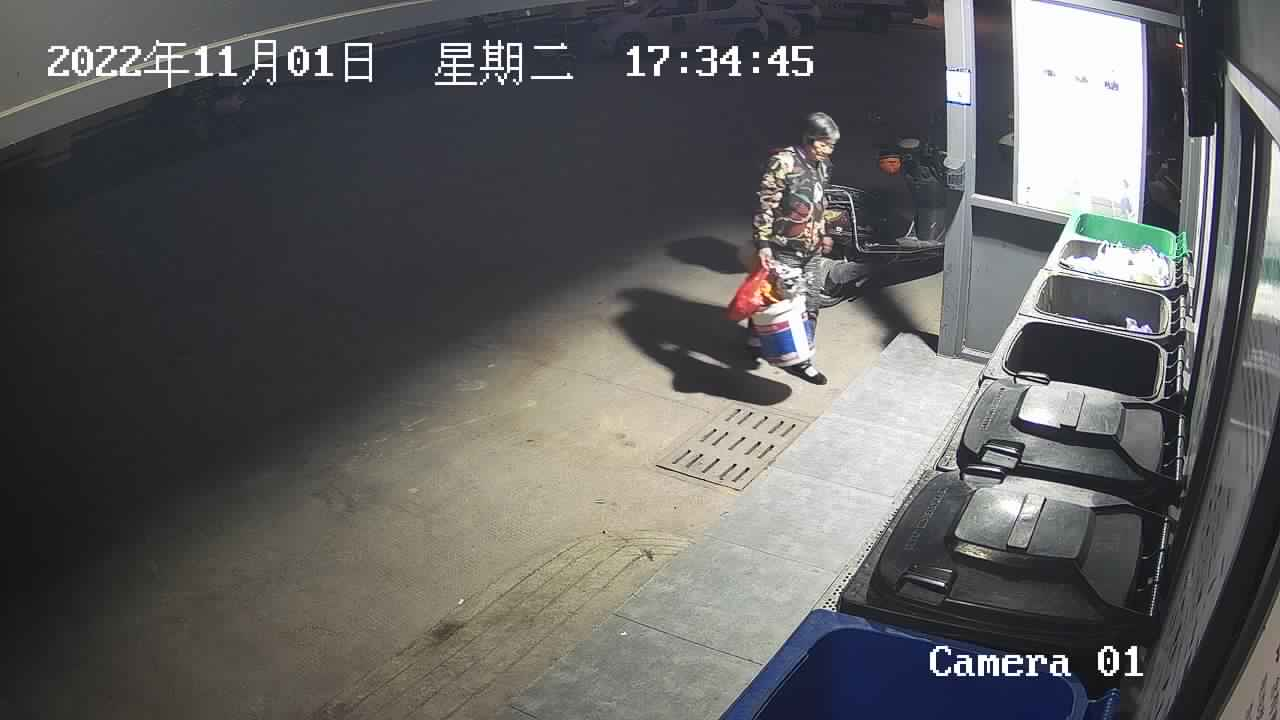garbage-bag: (724, 260, 775, 324)
person: (750, 109, 842, 385)
youtong: (747, 295, 816, 369)
